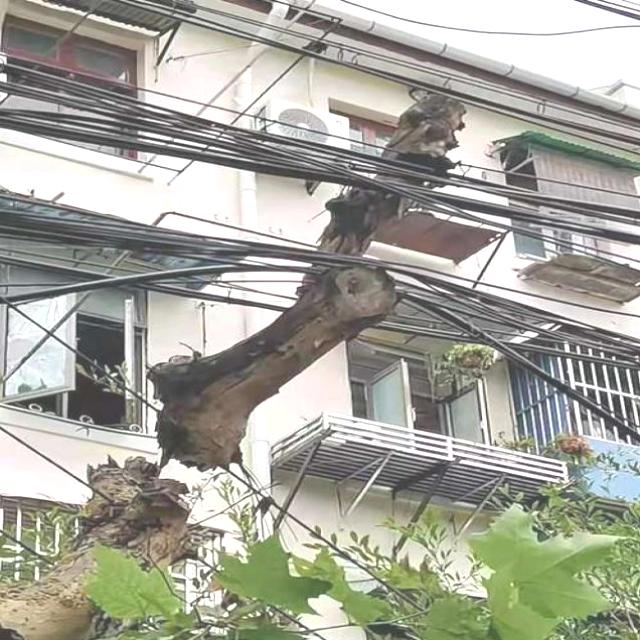fallen_object: (2, 438, 191, 640)
